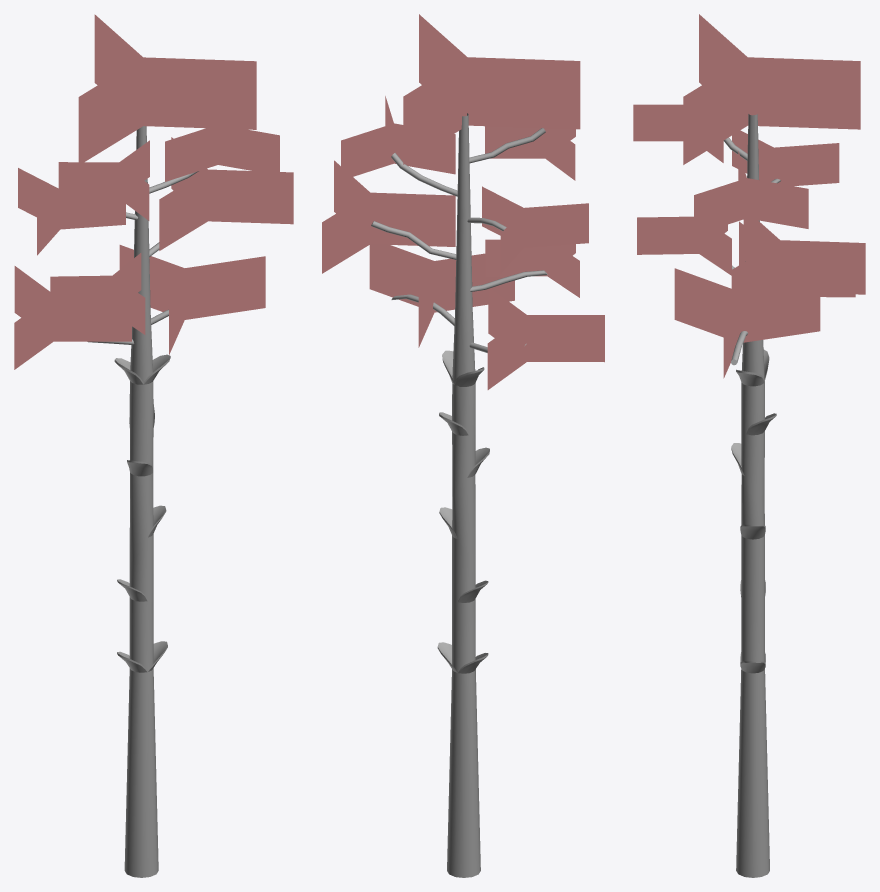
The model's file is OldMaguey_MiddleStem.fbx.
3 renders of one model, left to right at view 1: azimuth 30°, elevation 25°; view 2: azimuth 150°, elevation 25°; view 3: azimuth 270°, elevation 25°, orthographic.
Parts seen in each view (by area): view 1: MainStem, Leaves9, Leaves5, Leaves, Leaves3, Leaves7, Leaves4, Leaves8, Leaves6; view 2: MainStem, Leaves9, Leaves5, Leaves3, Leaves, Leaves6, Leaves7, Leaves4, Leaves8, Branch3; view 3: Leaves9, MainStem, Leaves5, Leaves, Leaves7, Leaves6, Leaves4, Leaves8.
Boxes of the visible parts, x1,y1,x2,y2 form: MainStem: (124,126,158,877); Leaves9: (78,14,256,165); Leaves5: (159,137,293,250); Leaves: (119,245,265,354); Leaves3: (14,266,131,369); Leaves7: (165,128,279,181); Leaves4: (50,253,145,334); Leaves8: (58,140,149,220); Leaves6: (18,168,125,255); MainStem: (447,113,480,877); Leaves9: (403,14,580,164); Leaves5: (322,160,455,273); Leaves3: (487,288,604,389); Leaves: (369,244,514,347); Leaves6: (482,186,588,273); Leaves7: (341,96,455,180); Leaves4: (485,239,579,297); Leaves8: (485,126,575,180); Branch3: (371,221,456,259); Leaves9: (683,14,860,164); MainStem: (736,114,769,877); Leaves5: (731,218,865,321); Leaves: (674,268,820,378); Leaves7: (694,151,808,235); Leaves6: (732,130,839,186); Leaves4: (637,216,731,275); Leaves8: (633,104,723,162).
Bounding box in the file's own units: 0.0483 × 0.1365 × 0.0353.
